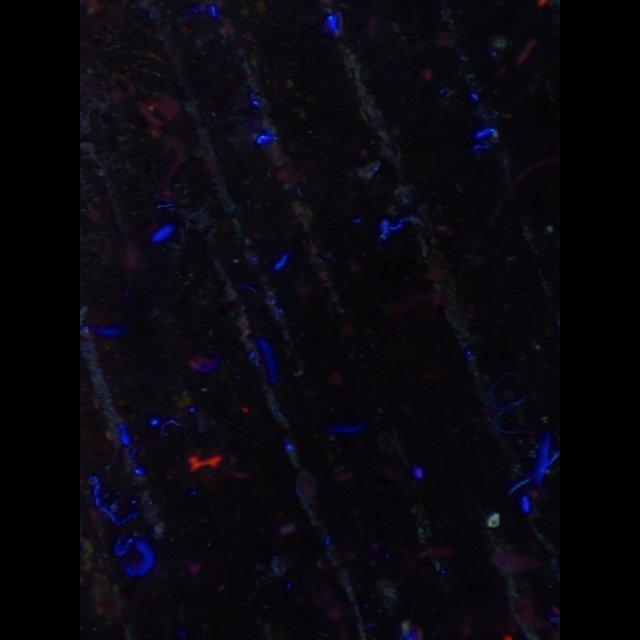microbeads: (484, 511, 502, 531)
